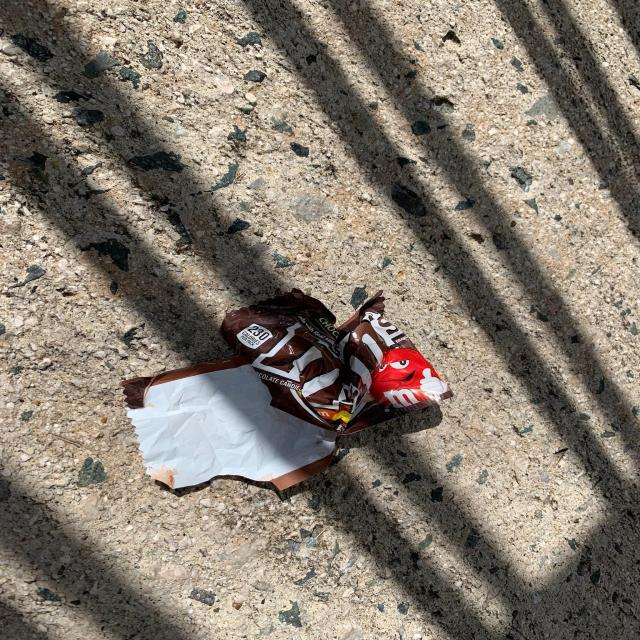litter: (121, 291, 457, 492)
